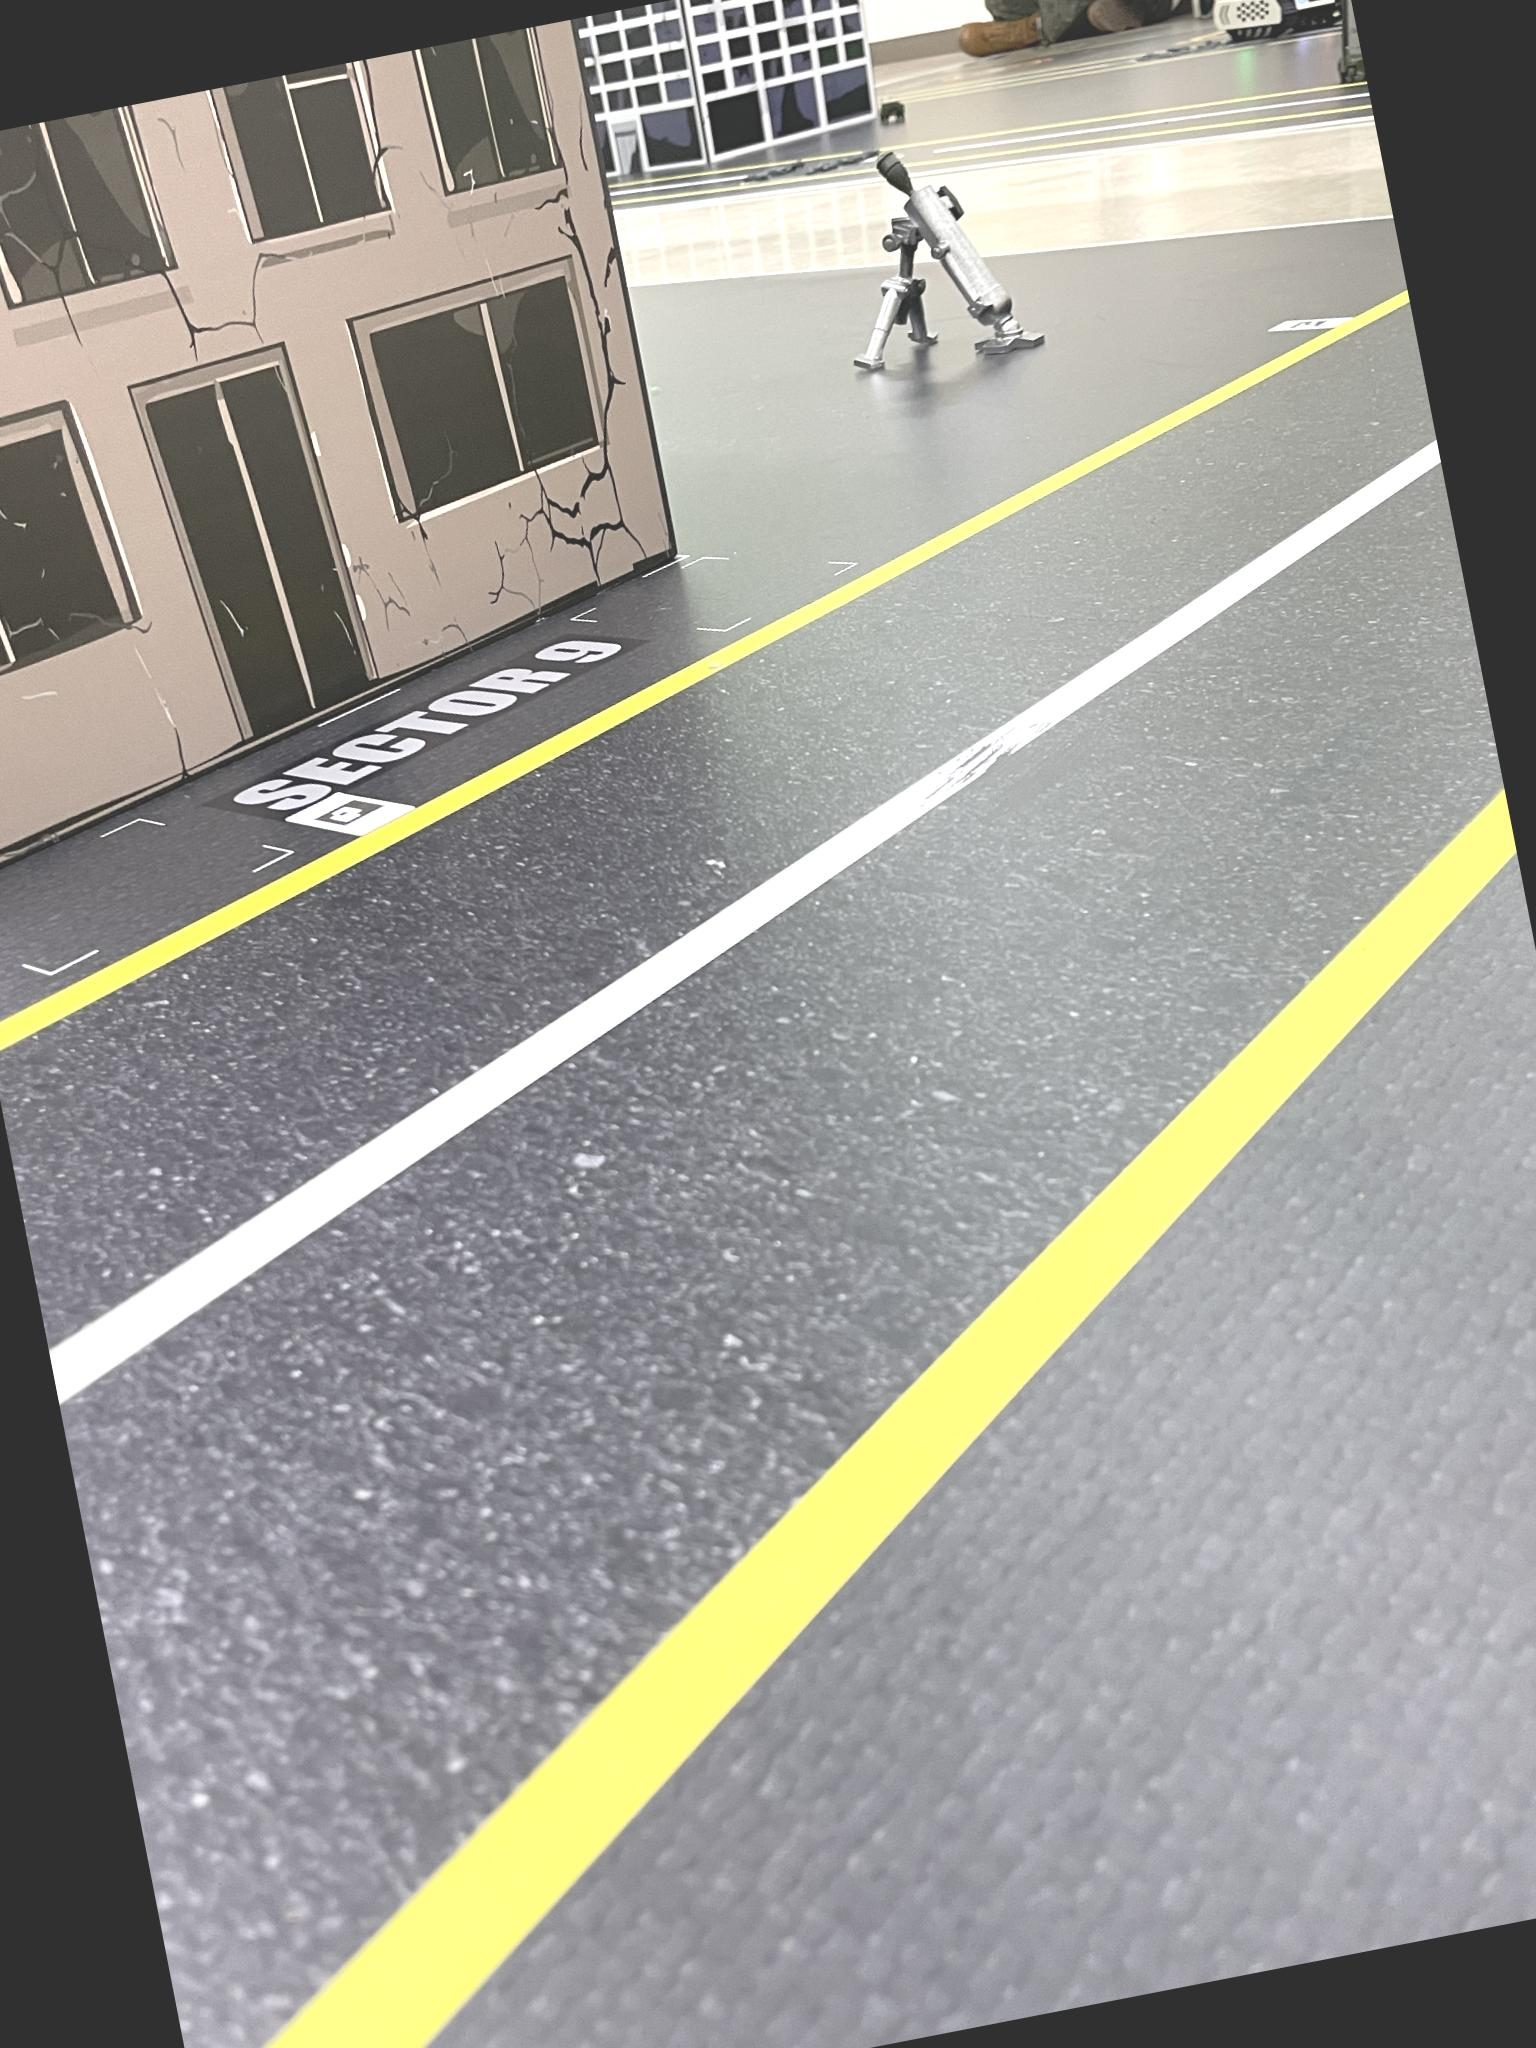Mortar: (822, 130, 1042, 384)
